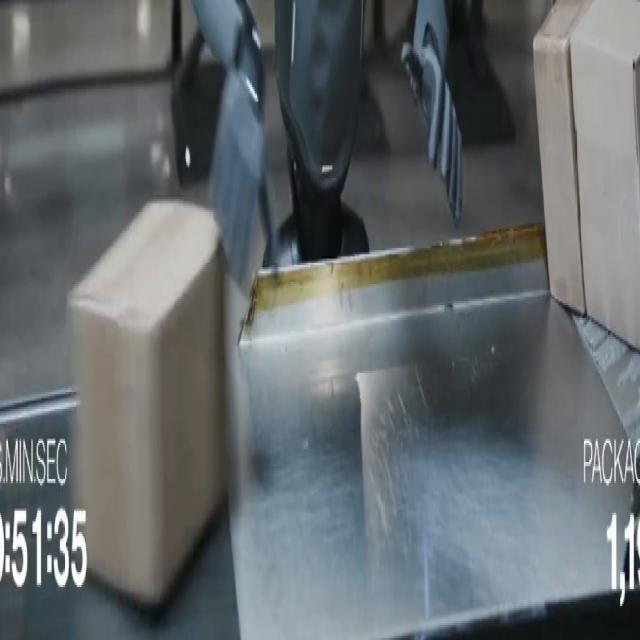package: (69, 202, 226, 608), (572, 0, 639, 347), (534, 0, 591, 313)
